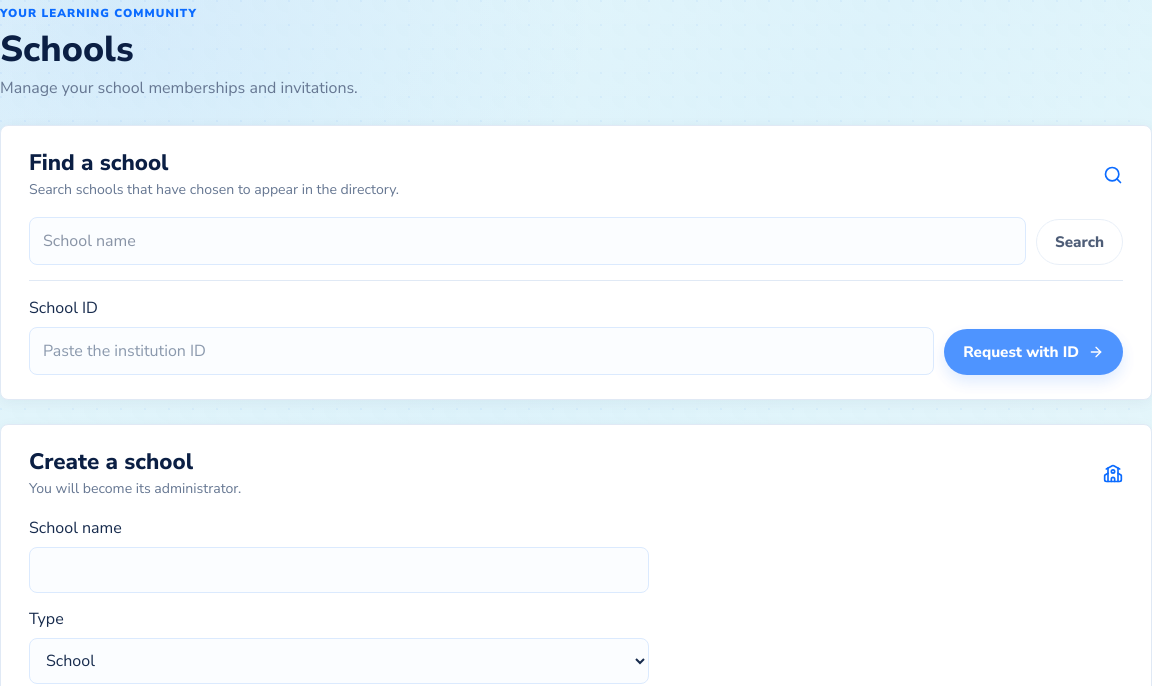
Test case: SchoolsPage › submits a real student membership request and shows its pending status
Type "school-1" into the field labelled "School ID" at coordinates (482, 351), box 29,327 -> 934,375
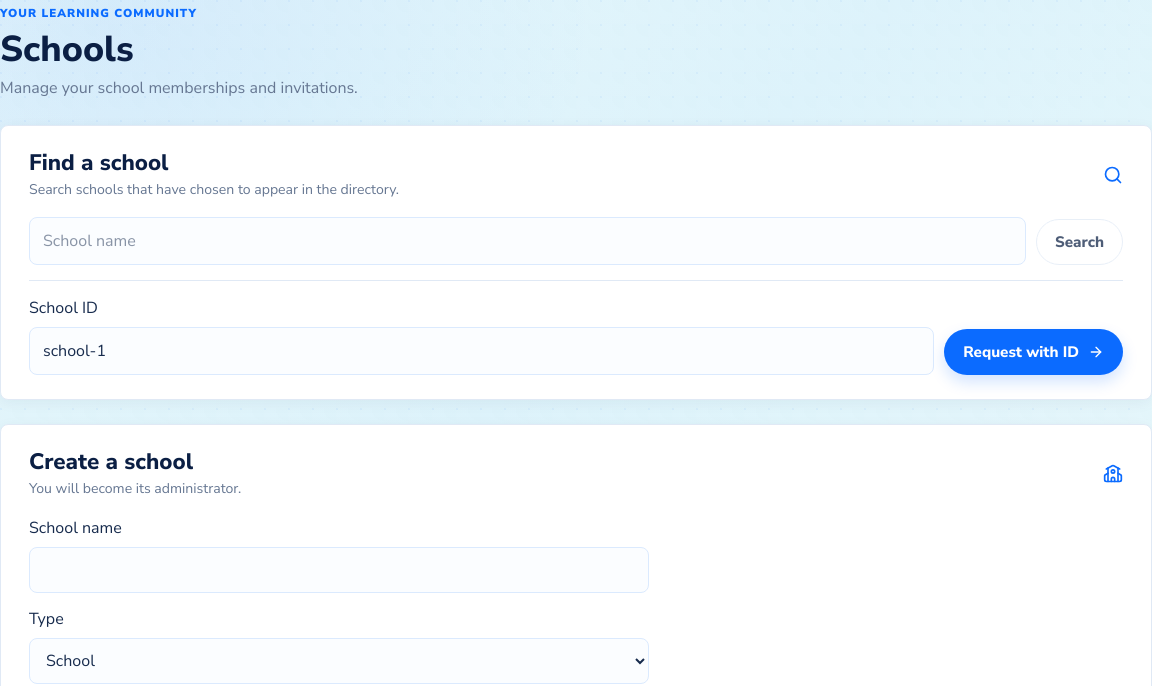
Click the button "Request with ID" at coordinates (1034, 352), box 944,329 -> 1123,375
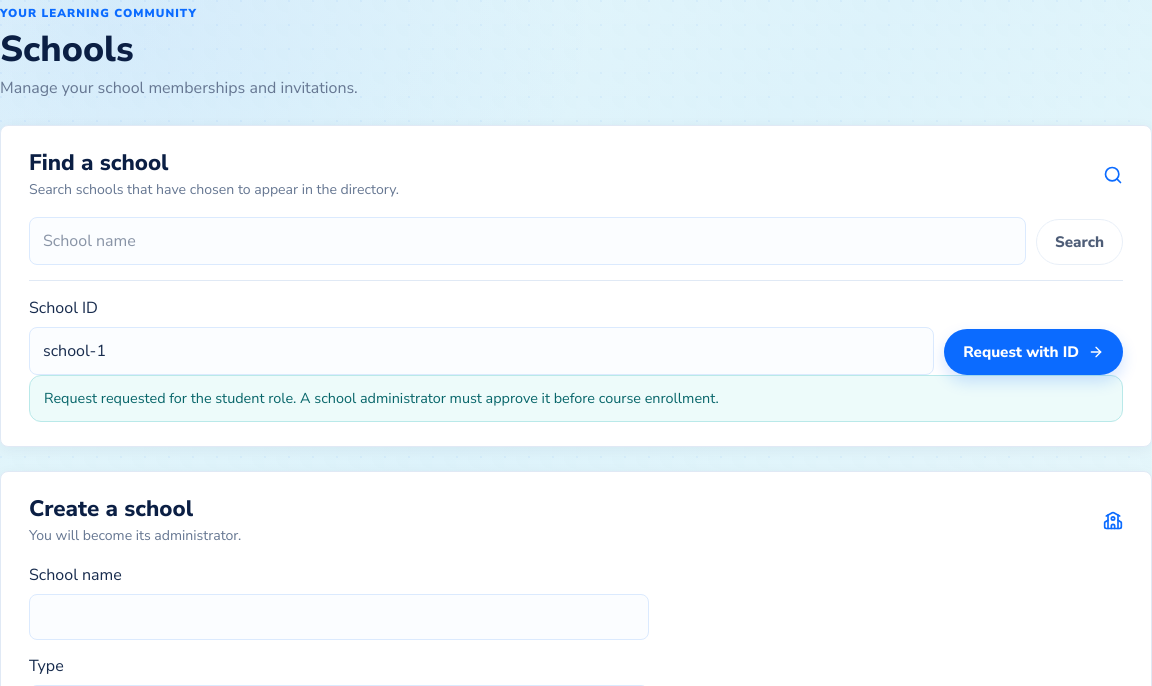
Now the message shows "requested", box 101,388 -> 166,408
